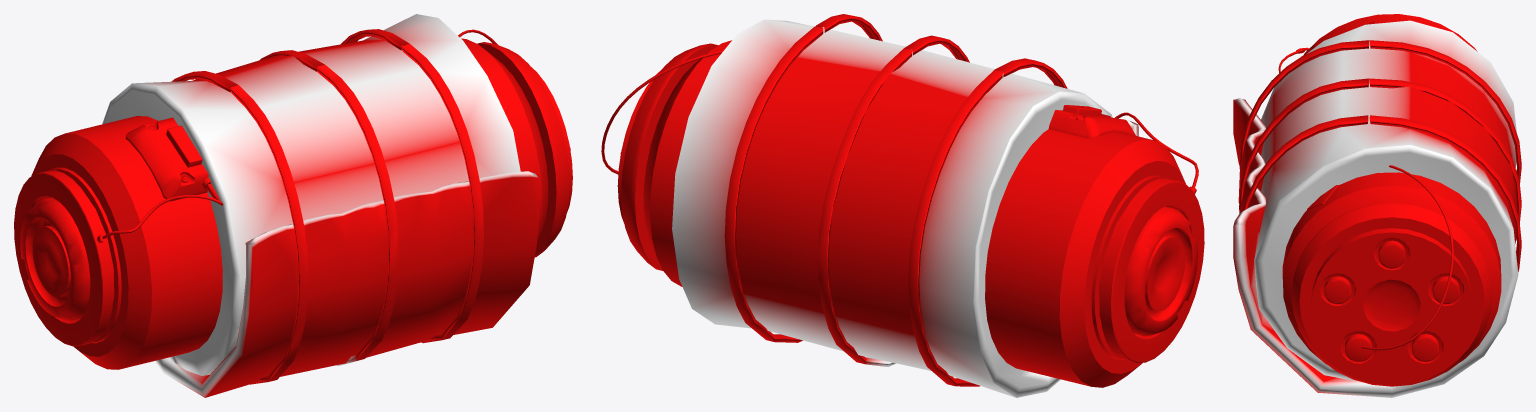
The model's file is JumperNobelisk.Static.fbx.
3 renders of one model, left to right at view 1: azimuth 30°, elevation 25°; view 2: azimuth 150°, elevation 25°; view 3: azimuth 270°, elevation 25°, orthographic. The views are drawn at different scales.
Visible parts, largest first — view 1: NobeliskExplosive; view 2: NobeliskExplosive; view 3: NobeliskExplosive.
Part boxes in pixels (x1,y1,x2,y2): NobeliskExplosive: [14, 14, 572, 397]; NobeliskExplosive: [601, 14, 1204, 397]; NobeliskExplosive: [1233, 14, 1521, 397].
Bounding box in the file's own units: 34.57 × 18.59 × 18.43.
